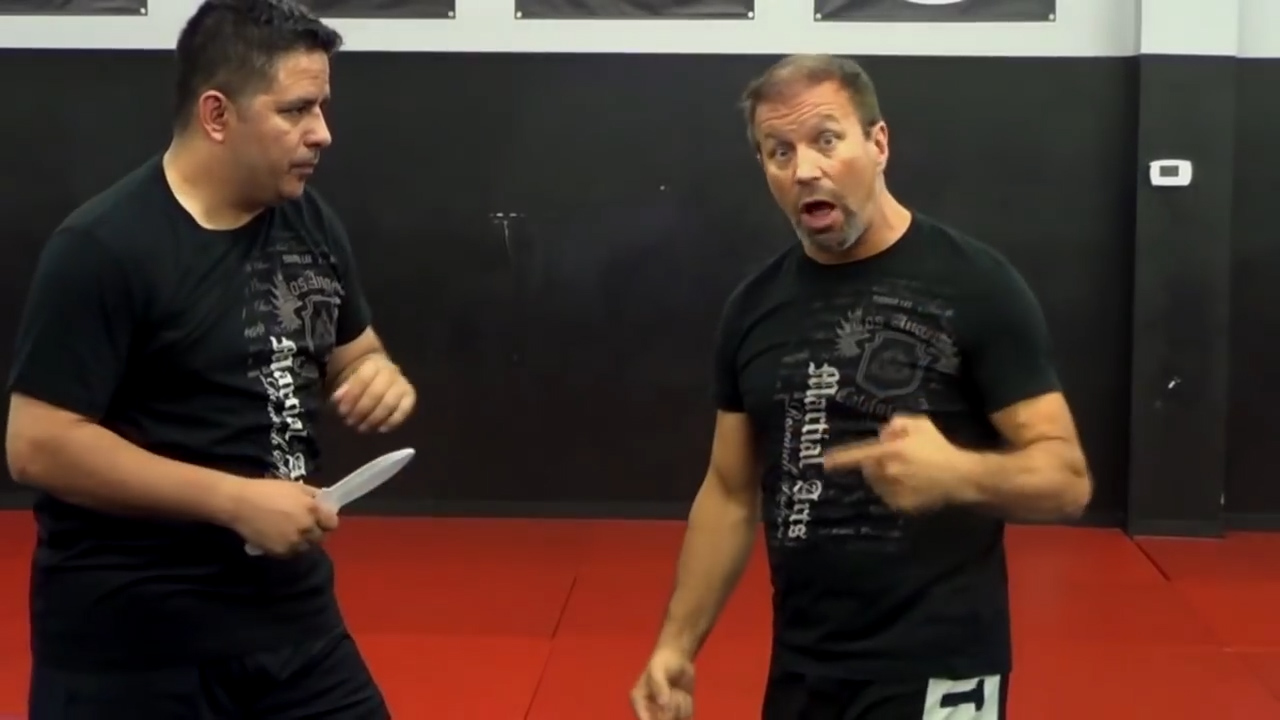knife: (240, 437, 423, 563)
